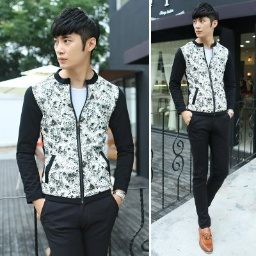face: (52, 7, 100, 70), (190, 3, 220, 41)
